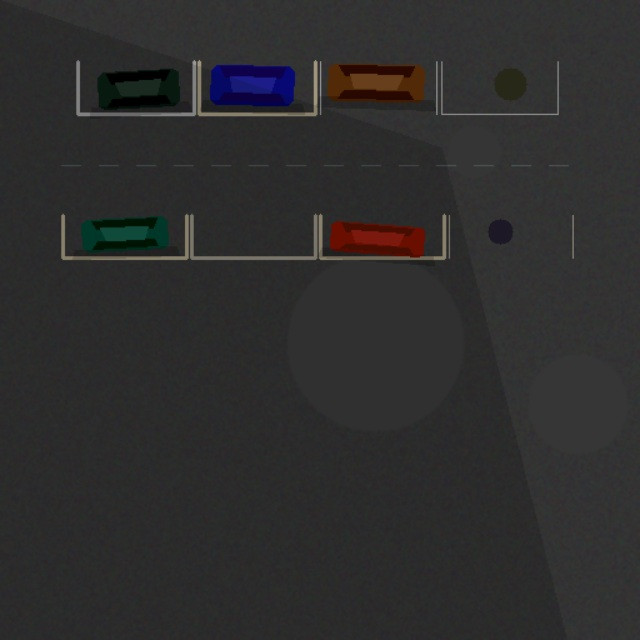space-empty: (441, 61, 557, 114), (191, 215, 315, 258), (449, 215, 573, 258)
space-occupied: (77, 61, 194, 114), (199, 61, 315, 114), (320, 61, 436, 114), (320, 215, 444, 258), (63, 215, 186, 258)
